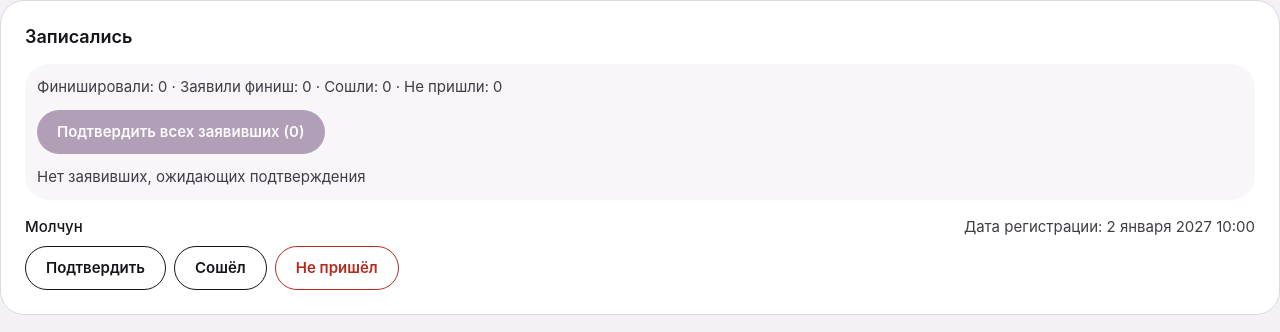
Scenario: ParticipantTable — finish check-in (CR-181) › marks a rider as «сошёл» and shows the badge (CR-182)
The image size is (1280, 332).
Expected: the element with test id "attendance-panel" is shown, [25, 64, 1255, 200]
Step 1. Click the button "Сошёл" → (220, 268), box [174, 246, 267, 290]
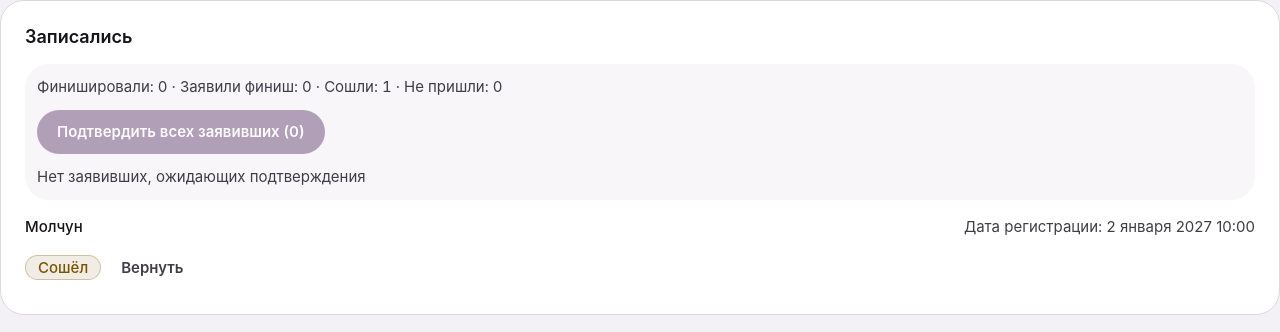
Expected: the text "Сошёл" is shown, [25, 255, 101, 280]
Now the text "Финишировали: 0 · Заявили финиш: 0 · Сошли: 1 · Не пришли: 0" is shown, box [37, 77, 502, 96]
